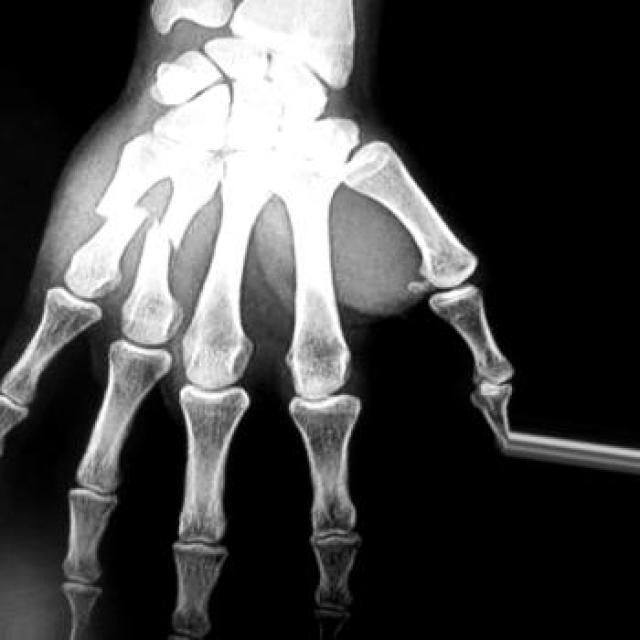Fracture: (88, 188, 155, 228)
